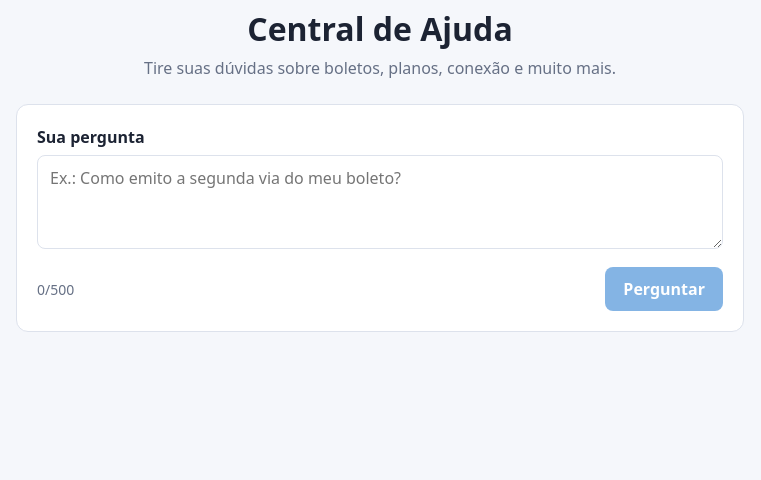
Test: AskPage › sem artigo, orienta a falar com um atendente e não mostra fonte
In the text box labelled "Sua pergunta": (380, 202) top-left (37, 155), bottom-right (723, 249), type "Qual a capital da França?"
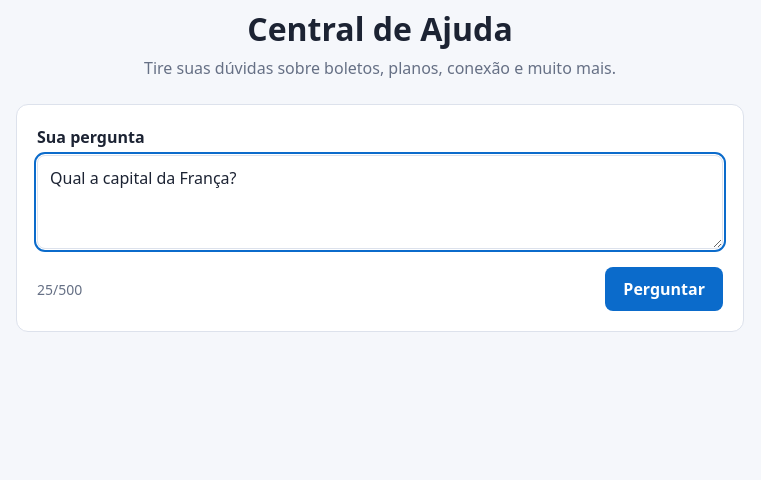
Click the button "Perguntar": click(664, 289) top-left (605, 267), bottom-right (723, 311)
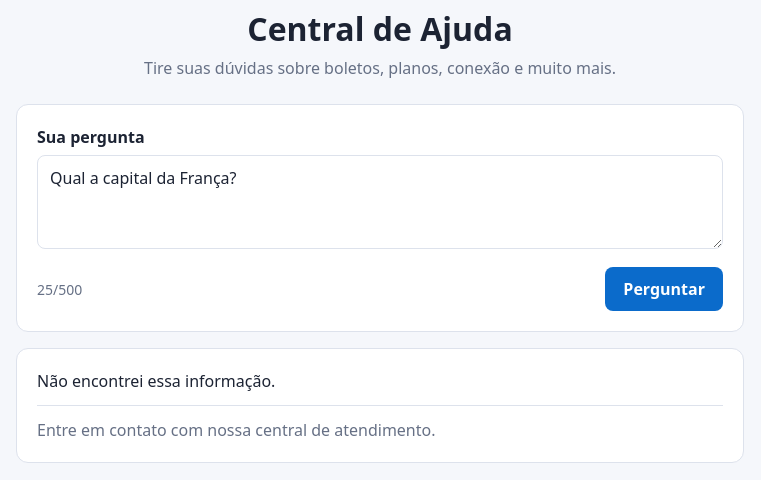
Expected: the text "Não encontrei essa informação." is shown, top-left (37, 370), bottom-right (275, 392)
Expected: the text "Entre em contato com nossa central de atendimento." is shown, top-left (37, 419), bottom-right (436, 441)
